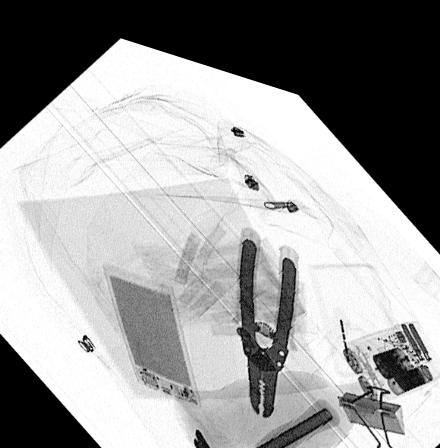Hammer: (191, 375, 341, 448)
Pliers: (234, 210, 299, 401)
Powerbank: (103, 255, 201, 394)
Wrench: (262, 427, 348, 448)
